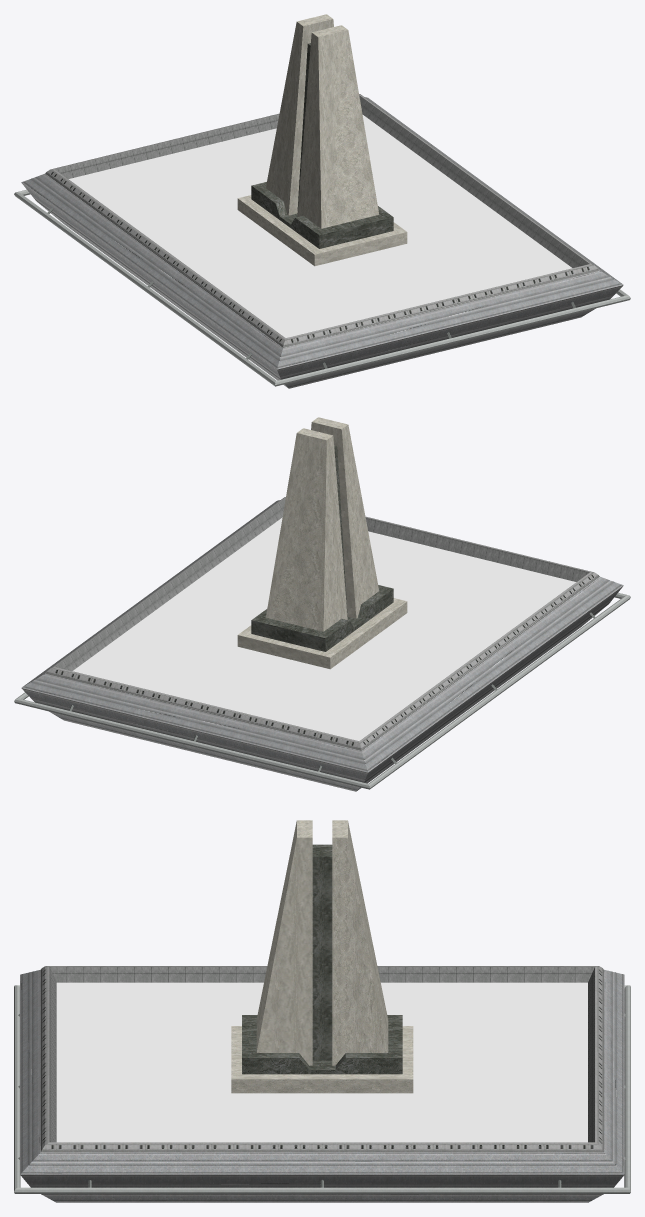
File: thm_corl_fountain_rectangle_s01_l0.fbx
3 views of the same model, one above another, from view 1: azimuth 30°, elevation 25°; view 2: azimuth 150°, elevation 25°; view 3: azimuth 270°, elevation 25° (orthographic). The views are drawn at different scales.
Visible parts, largest first — view 1: mesh_node; view 2: mesh_node; view 3: mesh_node.
Part boxes in pixels (x1,y1,x2,y2): mesh_node: [14, 14, 630, 388]; mesh_node: [14, 417, 630, 791]; mesh_node: [14, 820, 630, 1202].
Size of the model in its own units: 7.17 by 4.71 by 9.1.
